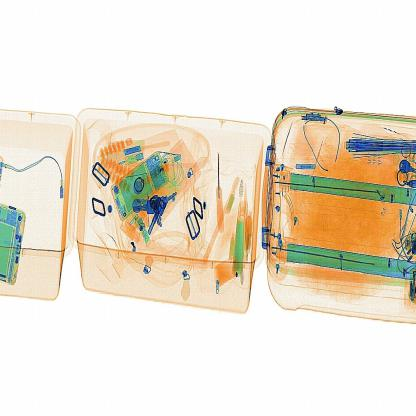wrench: (212, 149, 227, 236)
